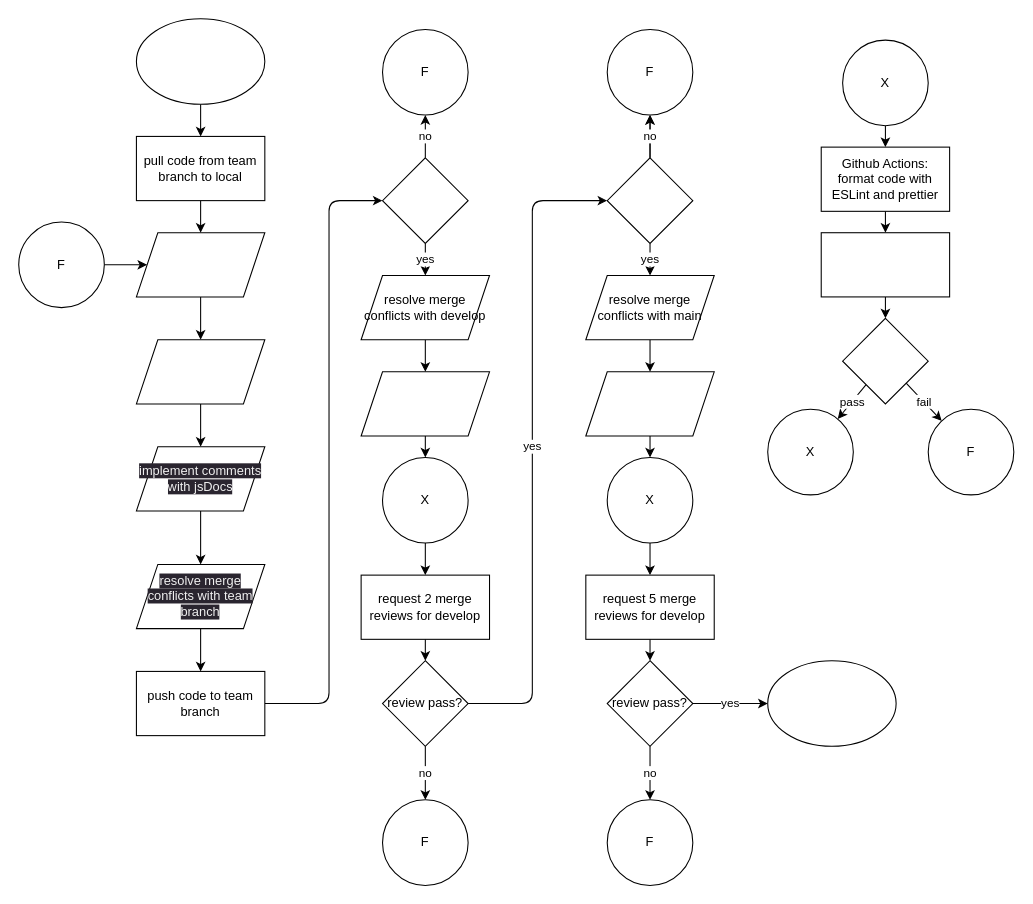
The diagram is 1033 pixels wide and 904 high, and some of its shapes have lost their labels. The centre of each missing label's shape, as x and y in pixels:
"change code" belongs at (x=200, y=264).
"end" belongs at (x=831, y=703).
"Github Actions: run unit tests" belongs at (x=885, y=264).
"implement unit tests with jest and puppeteer" belongs at (x=200, y=371).
"merge with develop?" belongs at (x=424, y=200).
"merge with main?" belongs at (x=649, y=200).
"pull request to develop" belongs at (x=425, y=403).
"pull request to main" belongs at (x=649, y=403).
"start" belongs at (x=200, y=61).
"test pass?" belongs at (x=885, y=360).
